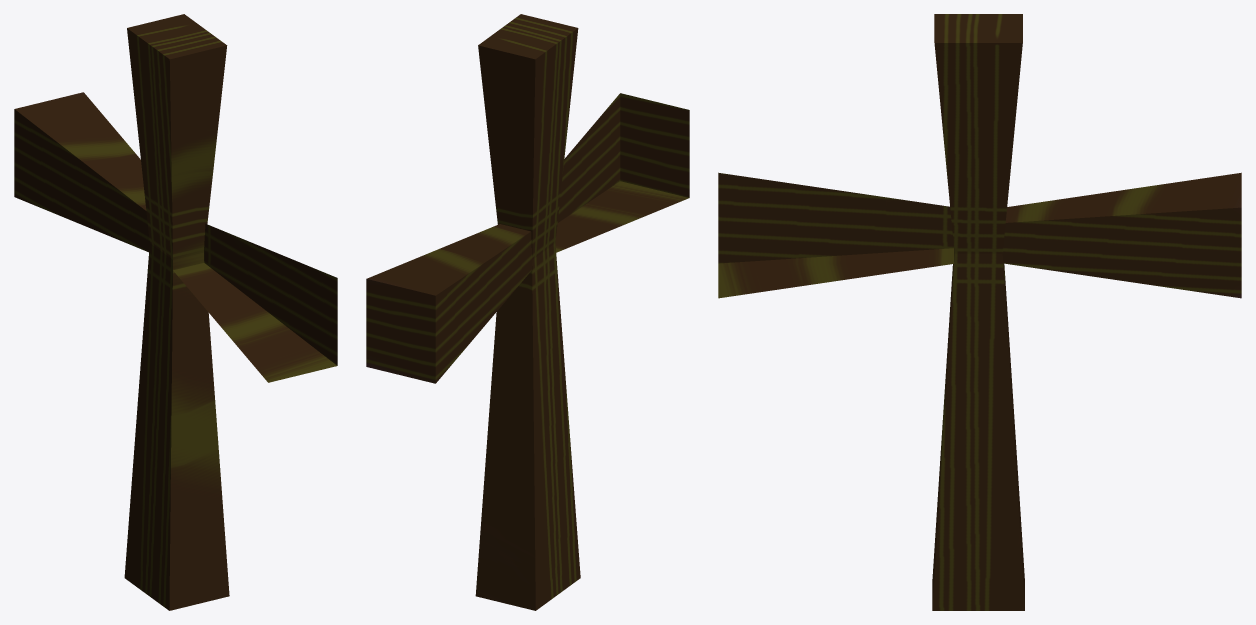
The model's file is cruz.glb.
3 renders of one model, left to right at view 1: azimuth 30°, elevation 25°; view 2: azimuth 150°, elevation 25°; view 3: azimuth 270°, elevation 25°, orthographic. The views are drawn at different scales.
Parts seen in each view (by area): view 1: Cruz_0; view 2: Cruz_0; view 3: Cruz_0.
Part boxes in pixels (x1,y1,x2,y2): Cruz_0: [14, 14, 337, 610]; Cruz_0: [366, 14, 689, 610]; Cruz_0: [718, 14, 1241, 610].
Size of the model in its own units: 0.6869 by 5.22 by 4.36.
Materials: 1 (1 with a texture image).
